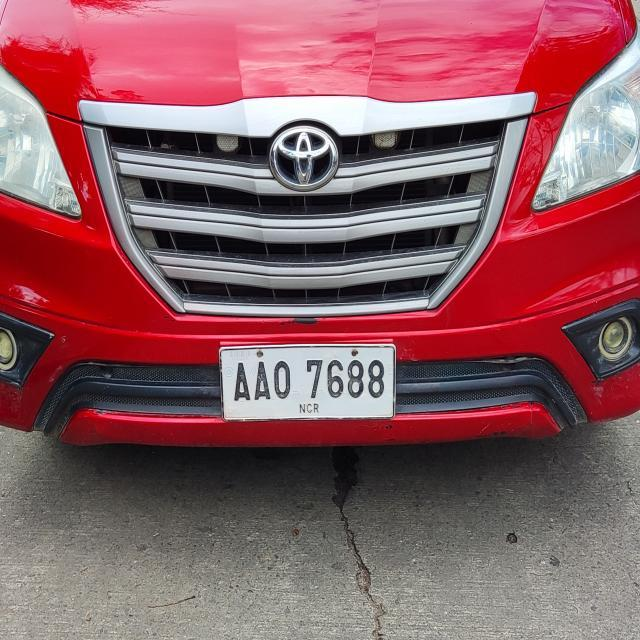LicensePlate: (206, 334, 406, 435)
